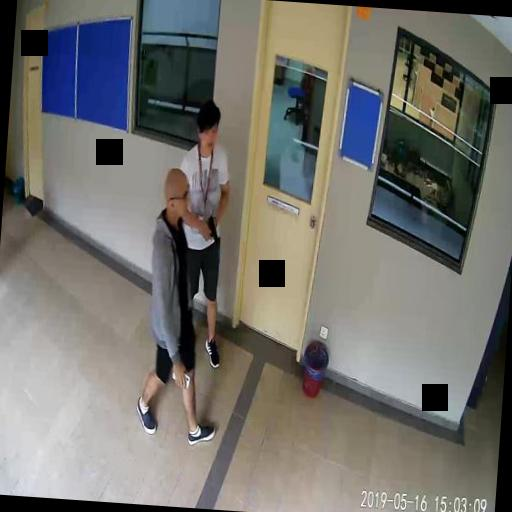Handgun: (205, 214, 219, 244)
